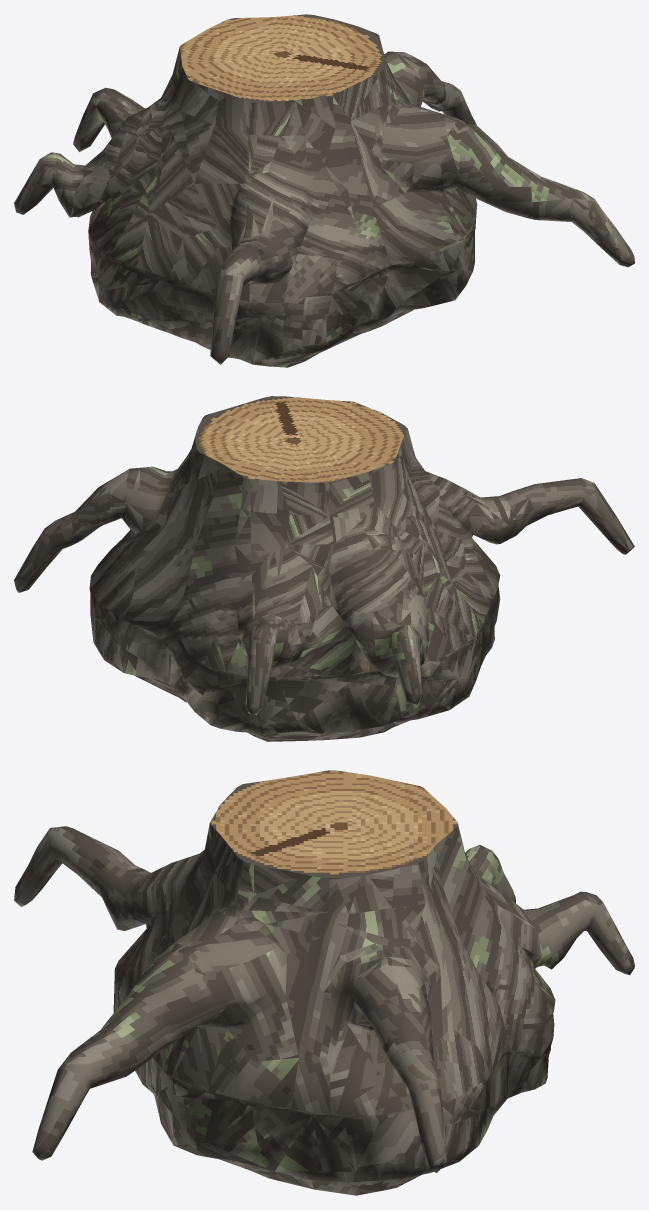
File: environment_elm4_stump_v31.fbx
3 renders of one model, top to bottom at view 1: azimuth 30°, elevation 25°; view 2: azimuth 150°, elevation 25°; view 3: azimuth 270°, elevation 25°, orthographic. The views are drawn at different scales.
Visible parts, largest first — view 1: environment_elm4_stump_v31; view 2: environment_elm4_stump_v31; view 3: environment_elm4_stump_v31.
Boxes of the visible parts, x1,y1,x2,y2 form: environment_elm4_stump_v31: (14, 14, 634, 367); environment_elm4_stump_v31: (14, 396, 634, 741); environment_elm4_stump_v31: (14, 770, 634, 1195).
Bounding box in the file's own units: 416 × 237 × 426.
2 materials, 2 textured.
